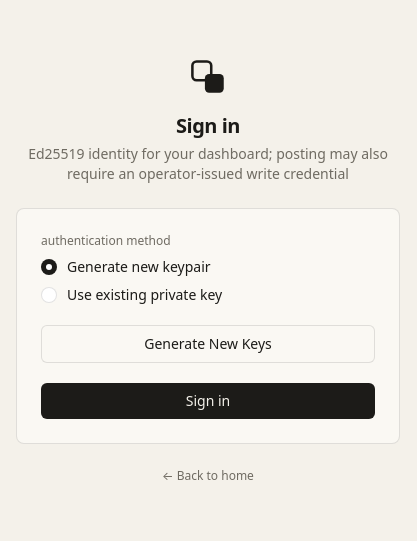
Test: Login private-key handling › disables browser text services and explains memory-only storage
Click the radio button labelled "Use existing private key". click: (49, 294)
box: [41,286,57,302]
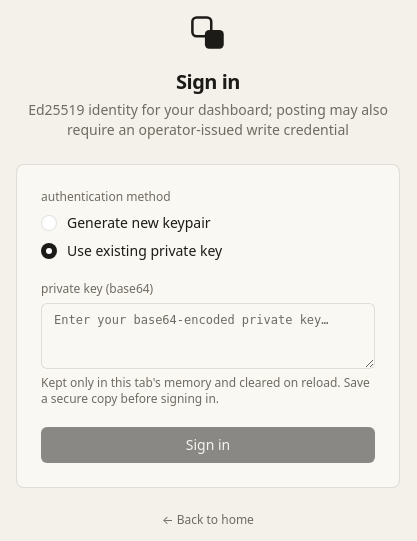
Now the text "Kept only in this tab's memory and cleared on reload" is shown, box [41,374,370,406]
